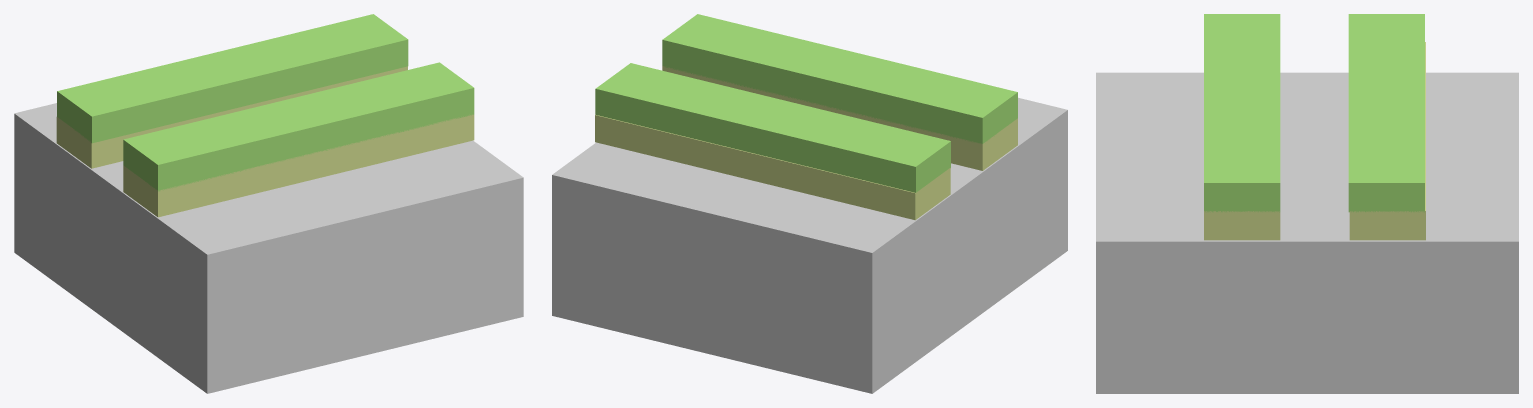
Rendered from finfet_patterning.glb.
3 renders of one model, left to right at view 1: azimuth 30°, elevation 25°; view 2: azimuth 150°, elevation 25°; view 3: azimuth 270°, elevation 25°, orthographic. The views are drawn at different scales.
Parts seen in each view (by area): view 1: Cube, Cube.004, Cube.003, Cube.001, Cube.002; view 2: Cube, Cube.003, Cube.004, Cube.002, Cube.001; view 3: Cube, Cube.004, Cube.003, Cube.002, Cube.001.
Part boxes in pixels (x1,y1,x2,y2): Cube: [14, 103, 523, 393]; Cube.004: [57, 14, 408, 143]; Cube.003: [123, 62, 474, 191]; Cube.001: [123, 114, 474, 217]; Cube.002: [56, 66, 407, 168]; Cube: [552, 97, 1067, 393]; Cube.003: [662, 14, 1017, 143]; Cube.004: [595, 63, 950, 192]; Cube.002: [595, 115, 950, 220]; Cube.001: [662, 66, 1017, 170]; Cube: [1096, 72, 1518, 393]; Cube.004: [1348, 14, 1424, 212]; Cube.003: [1204, 14, 1280, 212]; Cube.002: [1349, 42, 1425, 240]; Cube.001: [1204, 211, 1280, 240].
Size of the model in its own units: 2.2 by 1.28 by 2.33.
